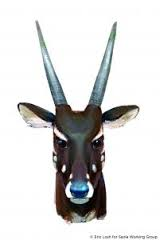sao_la: (16, 19, 141, 221)
